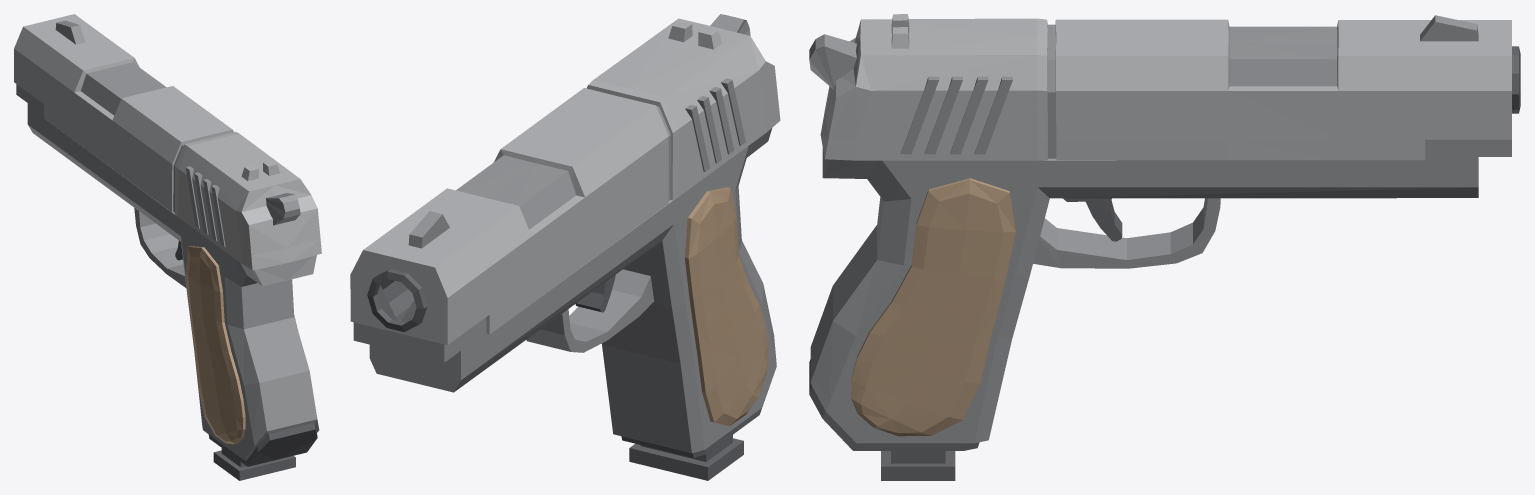
File: pistol_1.glb
3 renders of one model, left to right at view 1: azimuth 30°, elevation 25°; view 2: azimuth 150°, elevation 25°; view 3: azimuth 270°, elevation 25°, orthographic. The views are drawn at different scales.
Parts seen in each view (by area): view 1: charge, body, mag; view 2: charge, body, mag; view 3: charge, body, mag.
Boxes of the visible parts, box(x1,y1,x2,y2) form: charge: box(14, 14, 321, 270); body: box(27, 103, 319, 466); mag: box(213, 448, 295, 480); charge: box(350, 14, 780, 362); body: box(369, 128, 776, 457); mag: box(629, 435, 743, 480); charge: box(809, 14, 1520, 160); body: box(809, 148, 1478, 450); mag: box(881, 451, 955, 480).
Bounding box in the file's own units: 0.0372 × 0.1436 × 0.2092.
